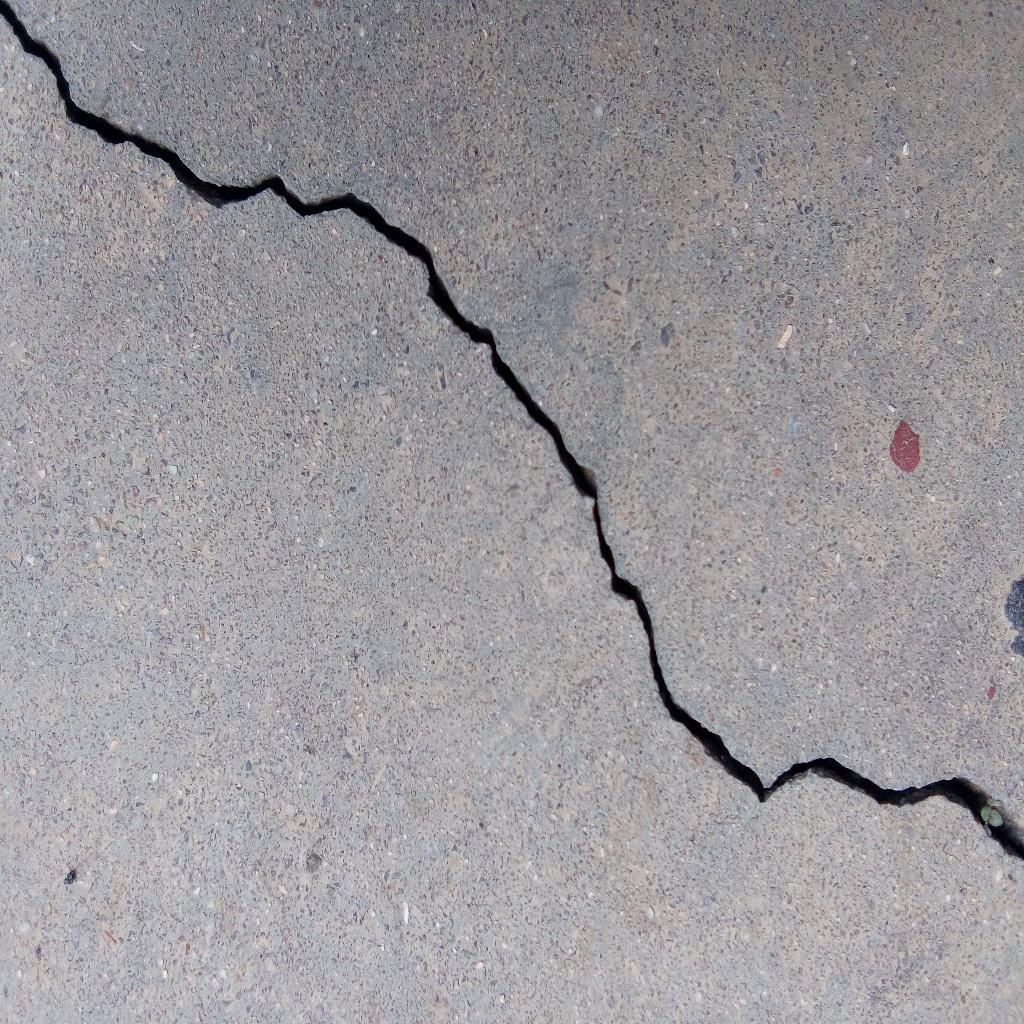Crack: (1, 1, 1024, 863)
